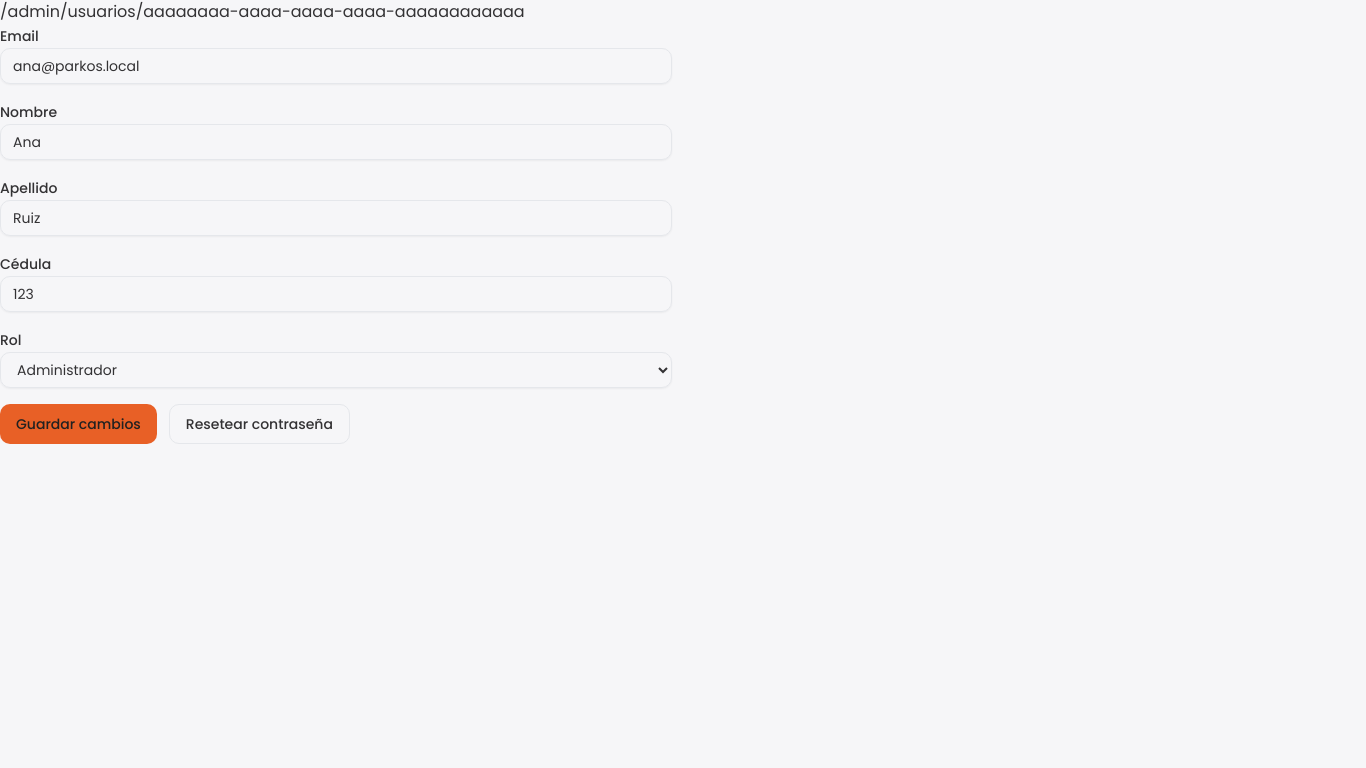
it: UsuarioForm — reset de contraseña › no persiste la contraseña en storage ni en la url
Click the button with test id "reset-password-btn" at (259, 424), box [169,404,350,444]
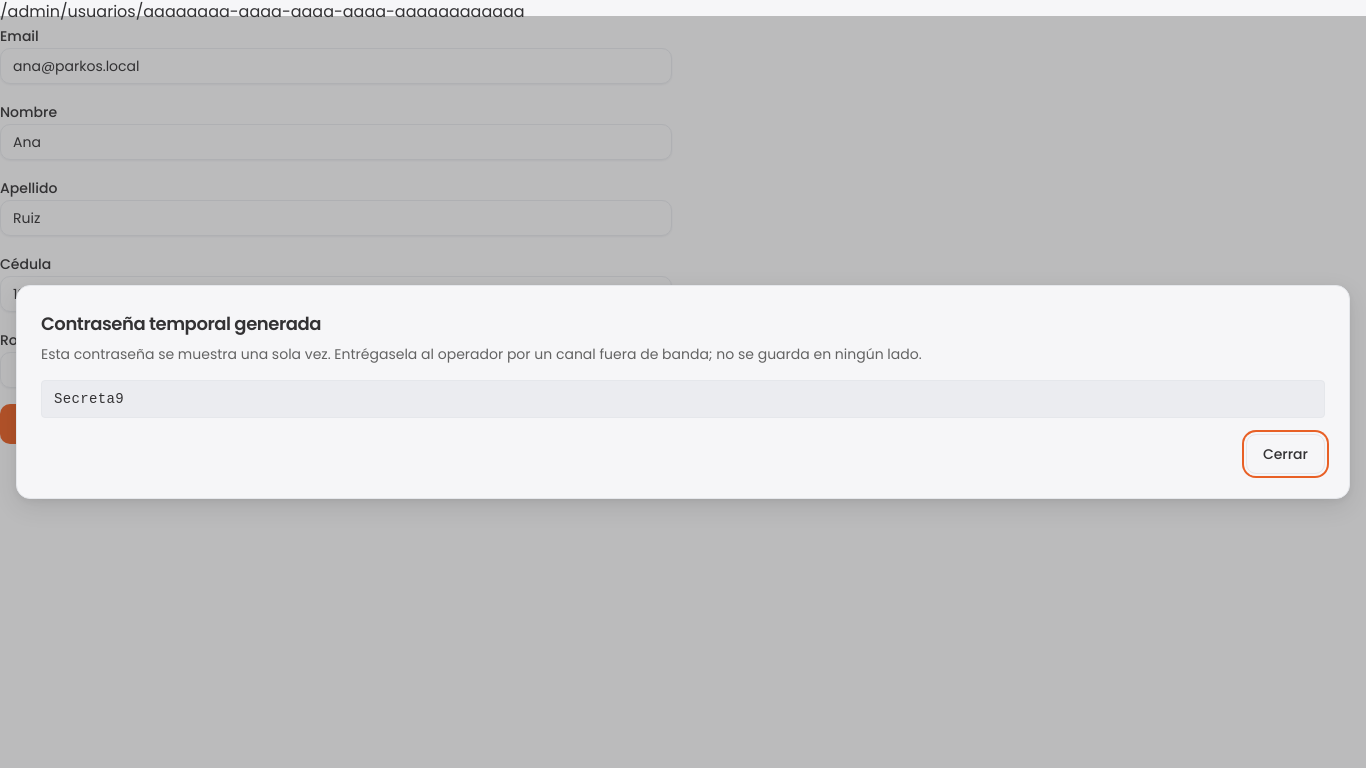
Expected: the text "Secreta9" is shown, [41,380,1325,418]
